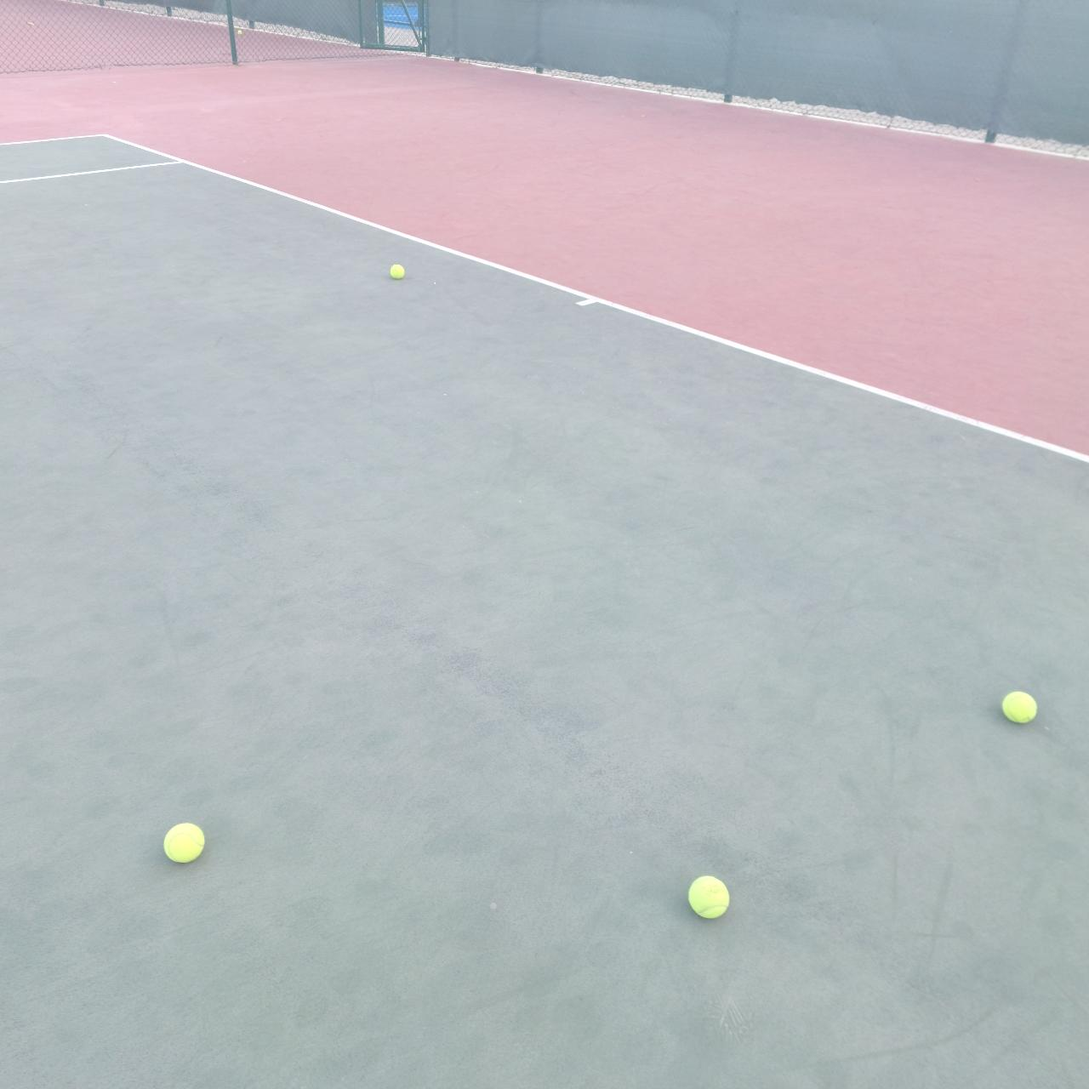tennis-ball: (687, 873, 732, 920), (163, 819, 208, 864), (1001, 688, 1040, 724), (390, 261, 408, 279)
